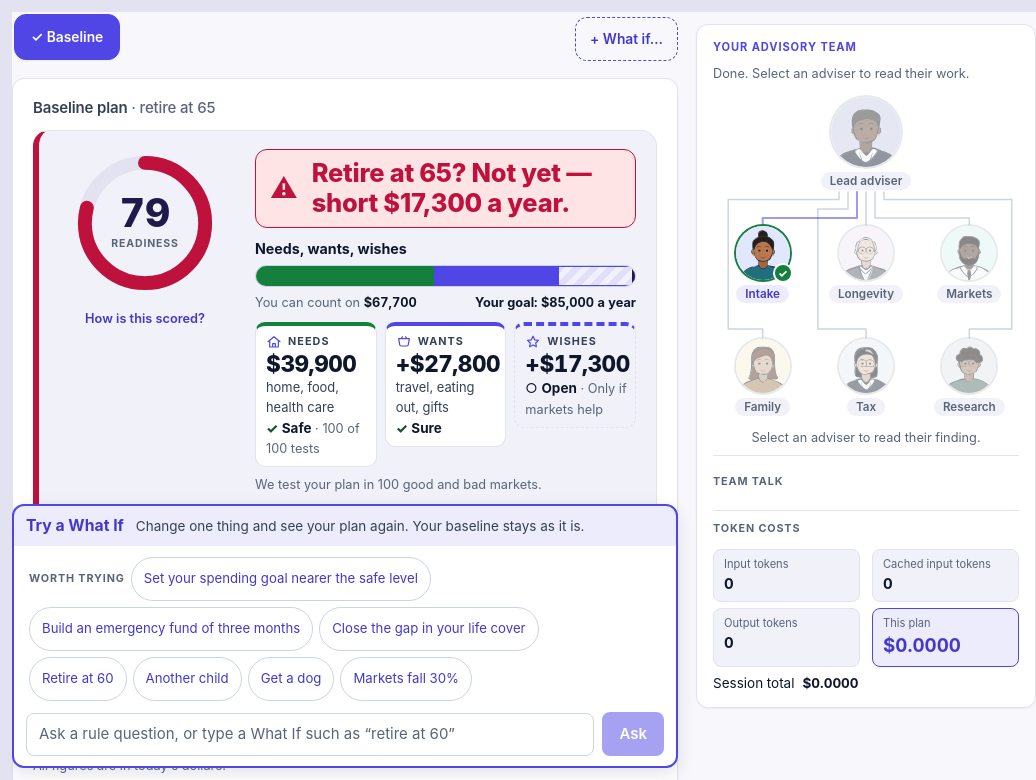
Moves: a checklist with what each is worth › a What If from the What If section chips opens a tab with 'vs baseline' markers
Click the 1st button with class "chip" at (281, 579), box [131, 557, 431, 601]
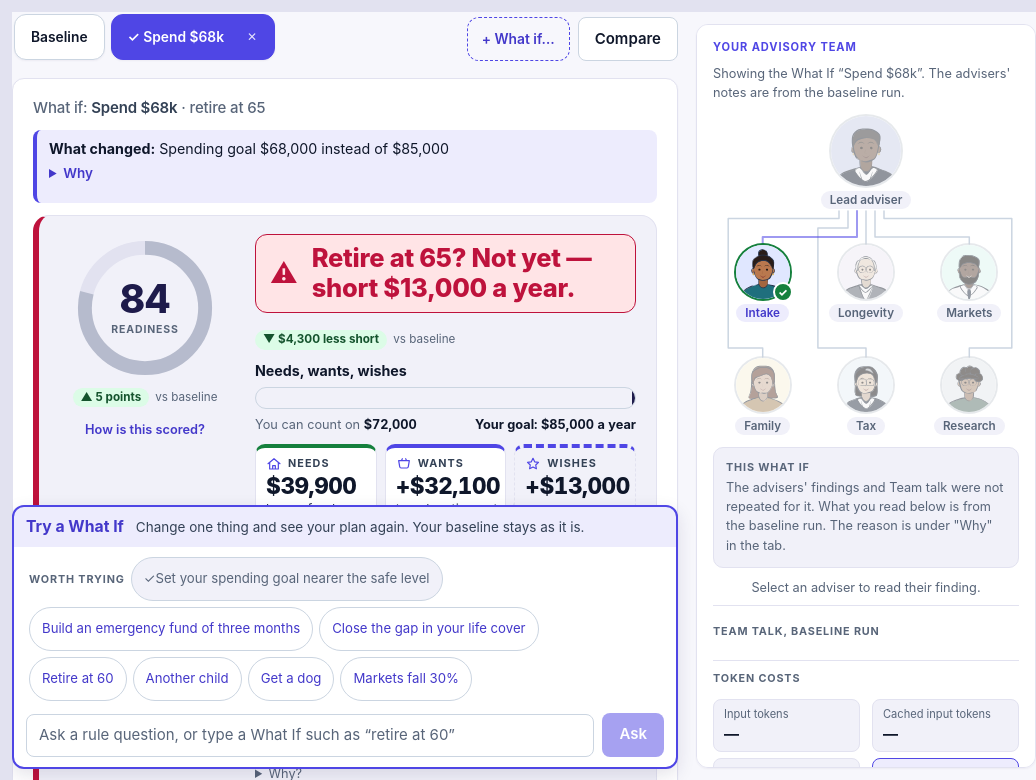
Expected: the heading "What if: Spend $68k · retire at 65" is shown, [33, 98, 265, 117]
Expected: the element with test id "vs-ready" reads "▲ 5 points vs baseline", [72, 388, 218, 407]
Expected: the element with test id "vs-gap" shows "▼ $4,300 less short", [255, 330, 455, 350]
Click the button "Compare" at (628, 39), box [578, 17, 678, 61]
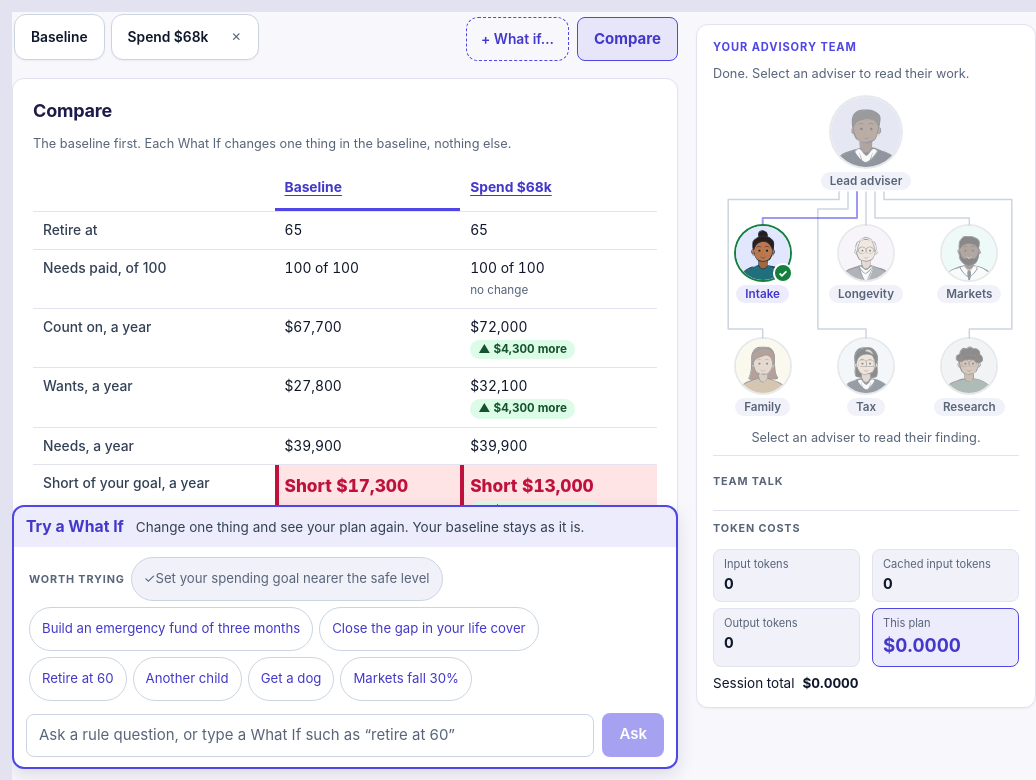
Expected: the table with test id "compare-table" is shown, [33, 163, 657, 589]
